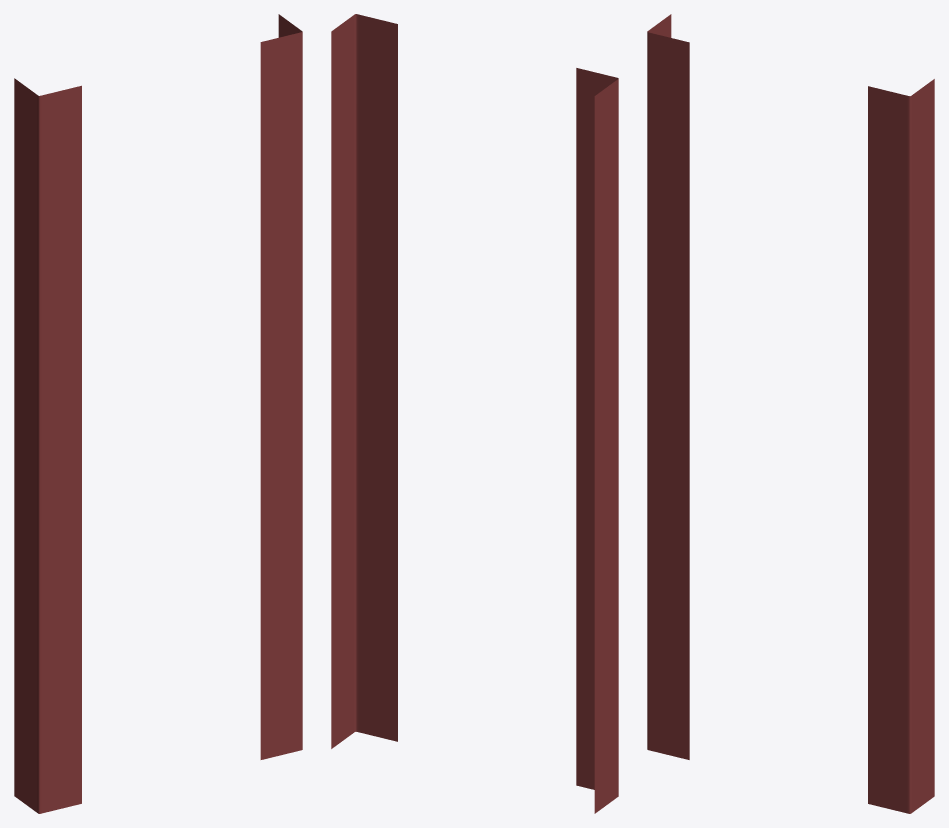
The model's file is Decal_wallIn_C_columnhalf_large.FBX.
3 renders of one model, left to right at view 1: azimuth 30°, elevation 25°; view 2: azimuth 150°, elevation 25°; view 3: azimuth 330°, elevation 25°, orthographic.
Visible parts, largest first — view 1: Decal_wallIn_C_columnhalf_large; view 2: Decal_wallIn_C_columnhalf_large; view 3: Decal_wallIn_C_columnhalf_large.
Boxes of the visible parts, x1=… form: Decal_wallIn_C_columnhalf_large: x1=14, y1=14, x2=302, y2=813; Decal_wallIn_C_columnhalf_large: x1=331, y1=14, x2=618, y2=813; Decal_wallIn_C_columnhalf_large: x1=647, y1=14, x2=934, y2=813.
Size of the model in its own units: 105 by 272 by 16.96.
